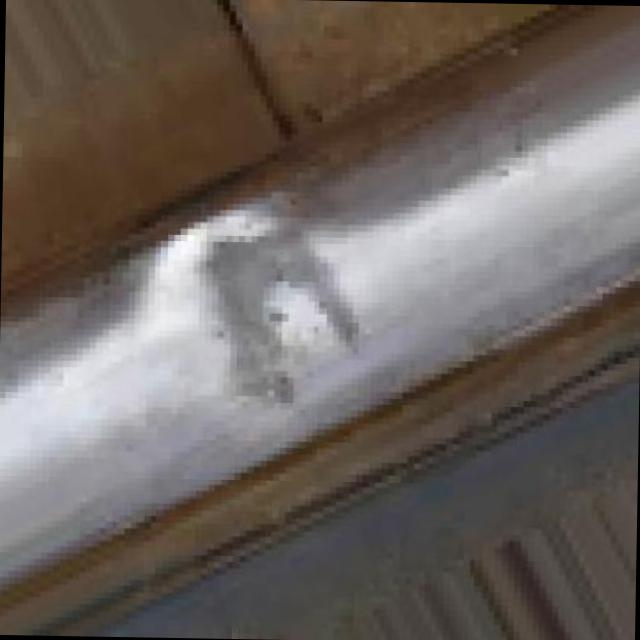defective: (126, 85, 408, 600)
